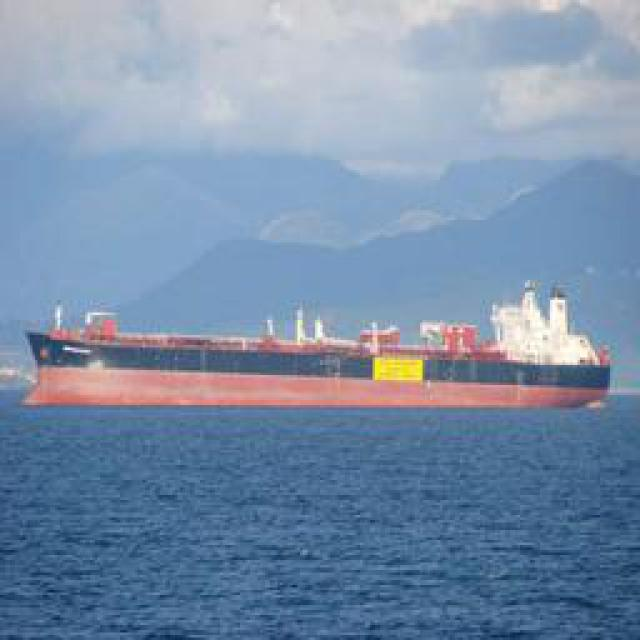Ship: (21, 289, 621, 422)
